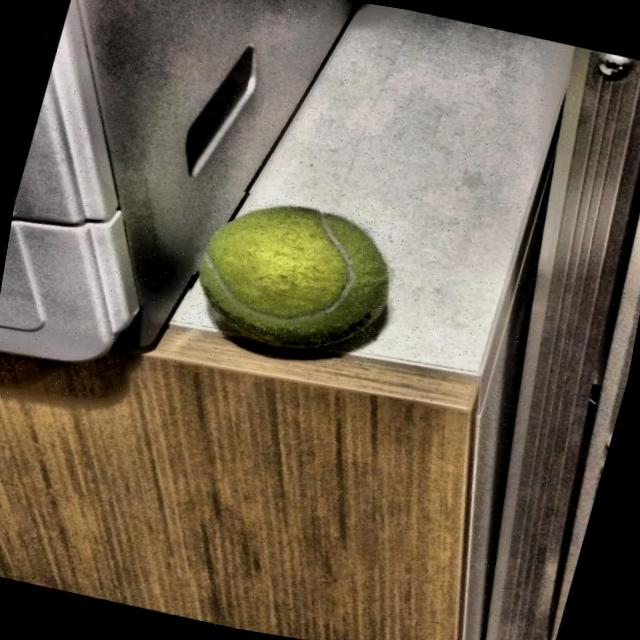Tennis Ball: (176, 184, 410, 373)
